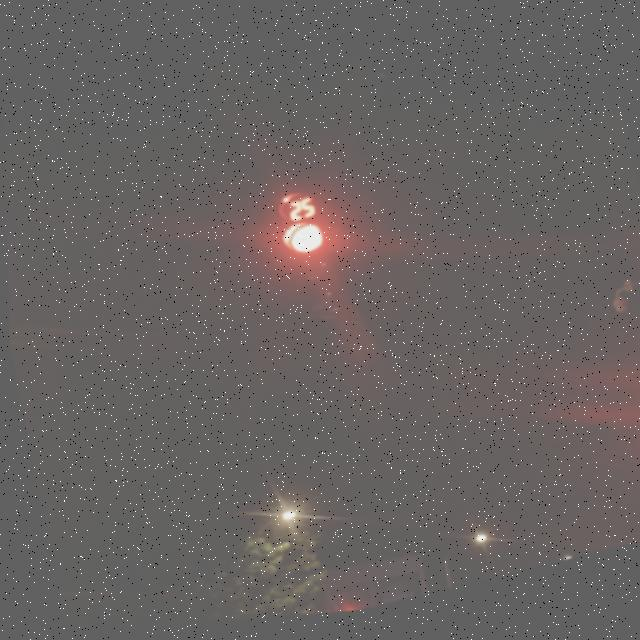Red: (266, 219, 360, 342)
